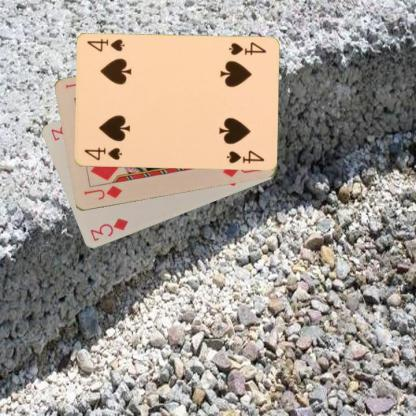3d: (88, 216, 130, 243)
4s: (225, 39, 267, 57), (82, 145, 123, 162)
Jd: (81, 183, 123, 201)
